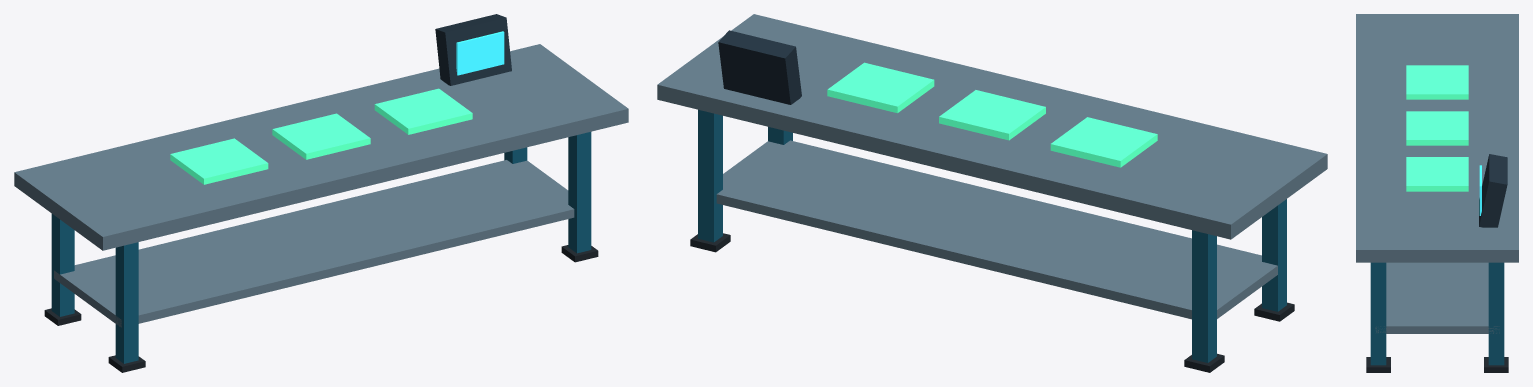
Rendered from workbench.754e464ededd.glb.
3 renders of one model, left to right at view 1: azimuth 30°, elevation 25°; view 2: azimuth 150°, elevation 25°; view 3: azimuth 270°, elevation 25°, orthographic. The views are drawn at different scales.
Parts seen in each view (by area): view 1: worktop_0001, bottom_shelf_0010, leg_0004, work_tray_0014, work_tray_0015, work_tray_0013, control_panel_0011, leg_0008, leg_0002, display_0012; view 2: worktop_0001, bottom_shelf_0010, control_panel_0011, work_tray_0013, work_tray_0015, work_tray_0014, leg_0002, leg_0006, leg_0004; view 3: worktop_0001, bottom_shelf_0010, work_tray_0013, work_tray_0014, work_tray_0015, leg_0006, leg_0008, control_panel_0011, foot_pad_0007, foot_pad_0009, display_0012.
Part boxes in pixels (<box>): worktop_0001: <box>14,44,628,250</box>; bottom_shelf_0010: <box>54,160,574,327</box>; leg_0004: <box>115,242,138,363</box>; work_tray_0014: <box>272,113,370,159</box>; work_tray_0015: <box>374,88,472,134</box>; work_tray_0013: <box>170,138,268,184</box>; control_panel_0011: <box>435,14,511,85</box>; leg_0008: <box>568,132,591,253</box>; leg_0002: <box>51,214,74,316</box>; display_0012: <box>456,31,504,75</box>; worktop_0001: <box>657,14,1327,239</box>; bottom_shelf_0010: <box>716,140,1277,319</box>; control_panel_0011: <box>718,30,801,104</box>; work_tray_0013: <box>1050,117,1157,167</box>; work_tray_0015: <box>827,62,934,113</box>; work_tray_0014: <box>939,90,1045,140</box>; leg_0002: <box>1192,230,1216,362</box>; leg_0006: <box>698,109,722,242</box>; leg_0004: <box>1262,199,1286,311</box>; worktop_0001: <box>1356,14,1518,262</box>; bottom_shelf_0010: <box>1375,262,1499,333</box>; work_tray_0013: <box>1406,65,1468,99</box>; work_tray_0014: <box>1406,111,1468,145</box>; work_tray_0015: <box>1406,157,1468,191</box>; leg_0006: <box>1488,262,1504,365</box>; leg_0008: <box>1370,262,1386,365</box>; control_panel_0011: <box>1479,154,1507,227</box>; foot_pad_0007: <box>1484,357,1508,372</box>; foot_pad_0009: <box>1366,357,1390,372</box>; display_0012: <box>1479,165,1481,215</box>.
Bounding box in the file's own units: 3.6 × 1.28 × 1.05.
